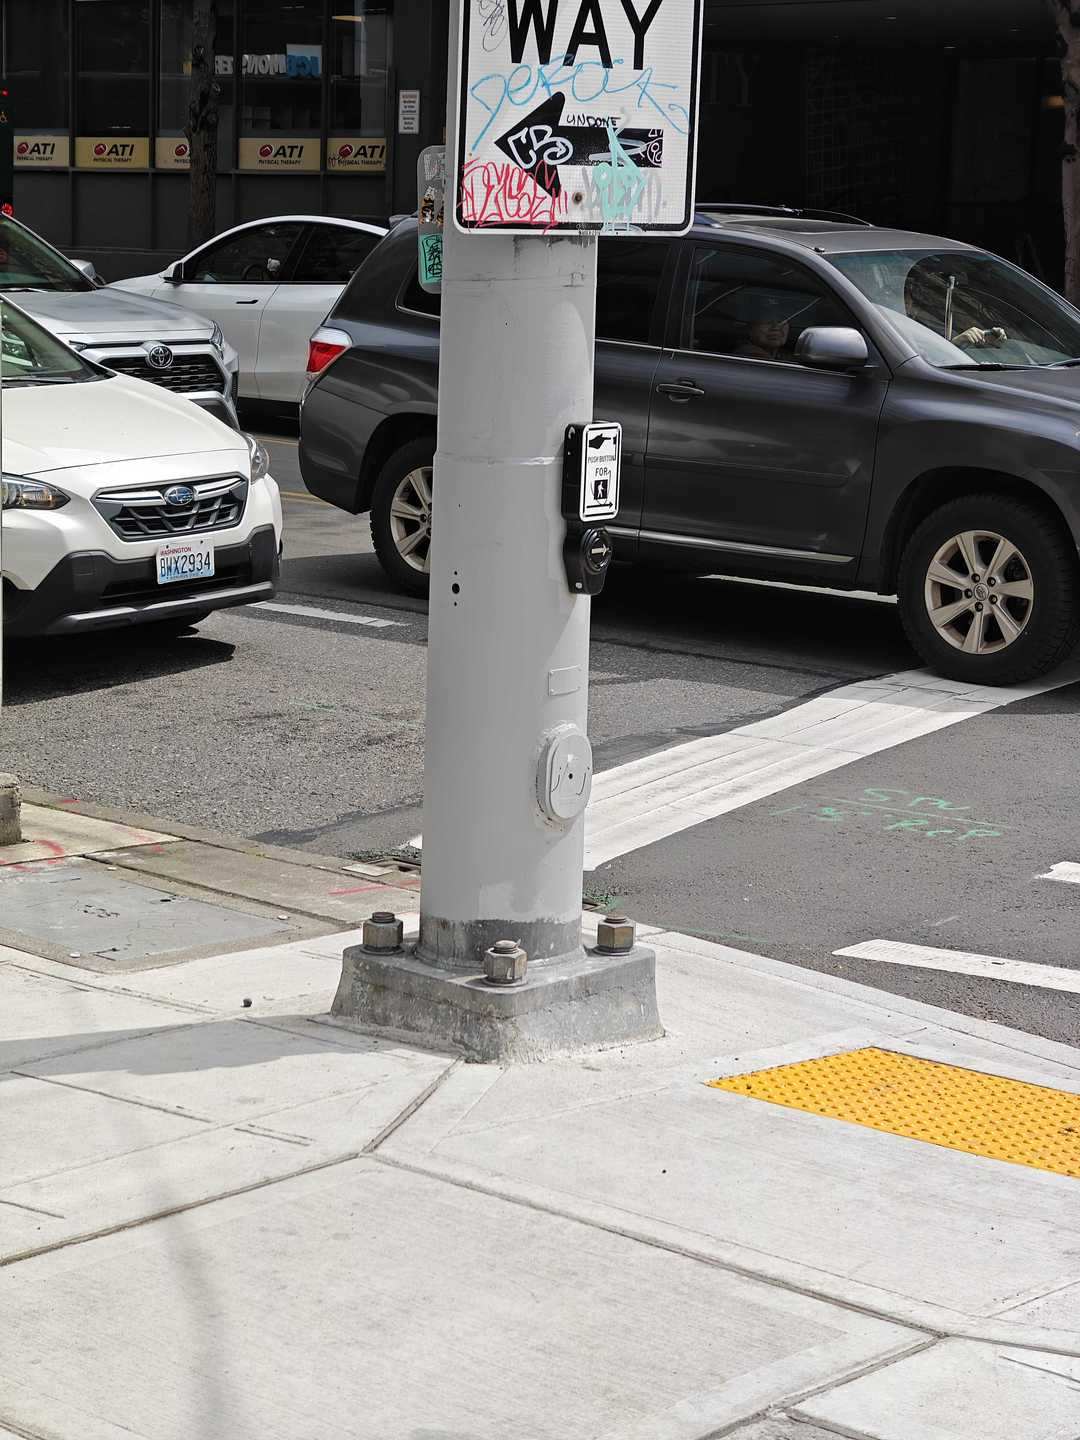ped_button: (562, 420, 622, 596)
